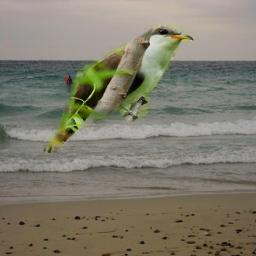Cuckoo: (37, 25, 199, 153)
